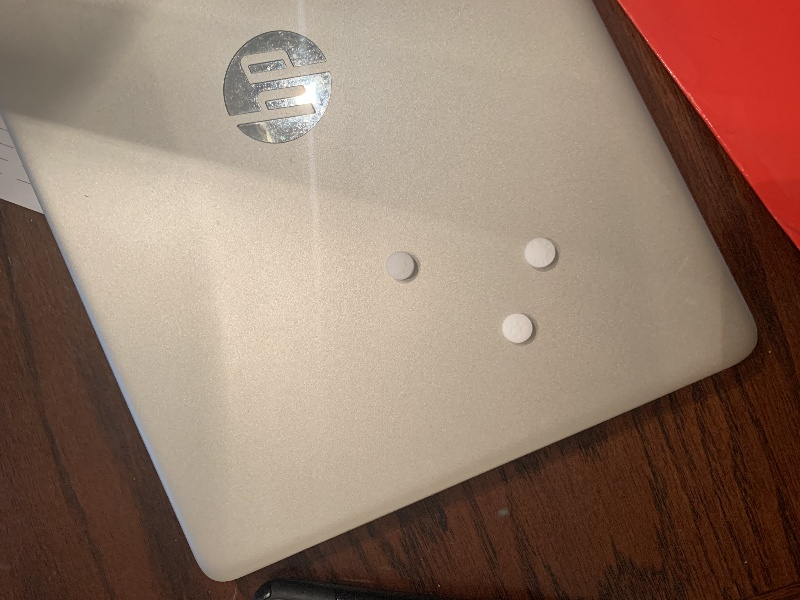Aspirin: (382, 250, 422, 285), (523, 236, 557, 270), (500, 313, 536, 344)
